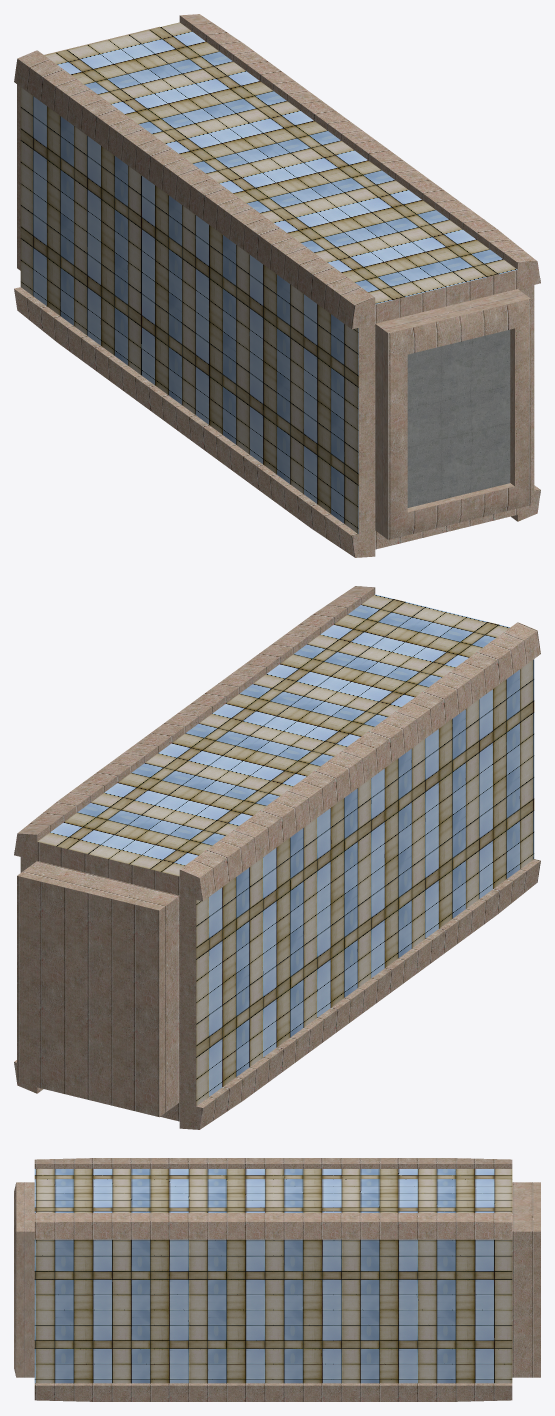
Rendered from skyscraper_windowA_01.obj.
The picture shows the model from 3 angles, top to bottom: view 1: azimuth 30°, elevation 25°; view 2: azimuth 150°, elevation 25°; view 3: azimuth 270°, elevation 25°; orthographic projection. The views are drawn at different scales.
Parts seen in each view (by area): view 1: Zone_4x4_SeaWall_C_06; view 2: Zone_4x4_SeaWall_C_06; view 3: Zone_4x4_SeaWall_C_06.
Boxes of the visible parts, x1,y1,x2,y2 form: Zone_4x4_SeaWall_C_06: (14,14,540,557); Zone_4x4_SeaWall_C_06: (14,586,540,1129); Zone_4x4_SeaWall_C_06: (14,1158,540,1401).
Bounding box in the file's own units: 32.29 × 42.29 × 110.
3 materials, 3 textured.
